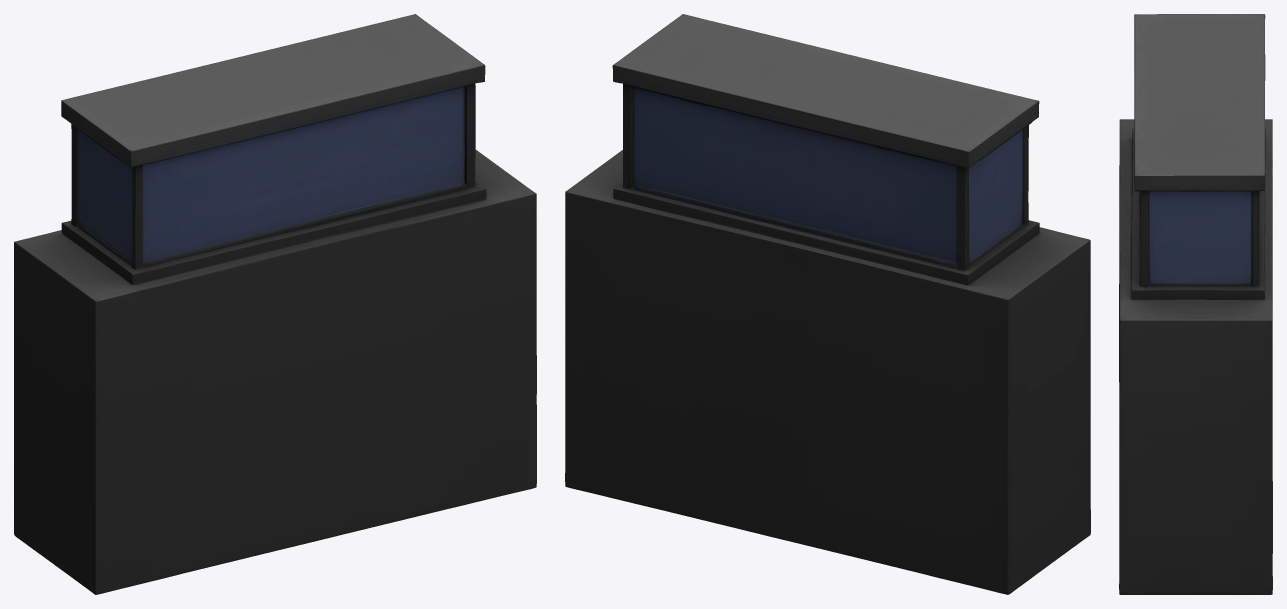
Rendered from tank.glb.
3 renders of one model, left to right at view 1: azimuth 30°, elevation 25°; view 2: azimuth 150°, elevation 25°; view 3: azimuth 270°, elevation 25°, orthographic. The views are drawn at different scales.
Parts seen in each view (by area): view 1: geometry_0; view 2: geometry_0; view 3: geometry_0.
Part boxes in pixels (x1,y1,x2,y2): geometry_0: [14, 14, 536, 594]; geometry_0: [565, 14, 1090, 594]; geometry_0: [1119, 14, 1272, 594].
Size of the model in its own units: 1 by 0.9264 by 0.3226.
Materials: 1 (1 with a texture image).
